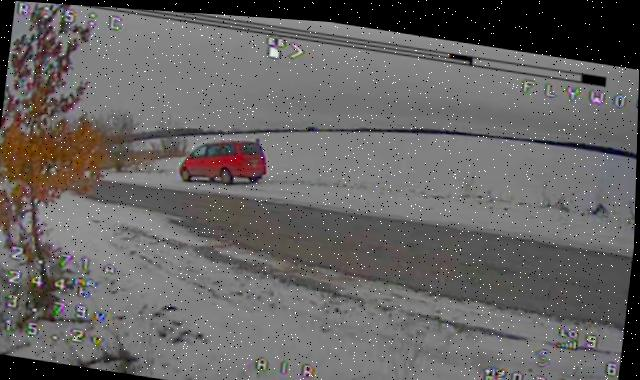car: (182, 130, 273, 187)
